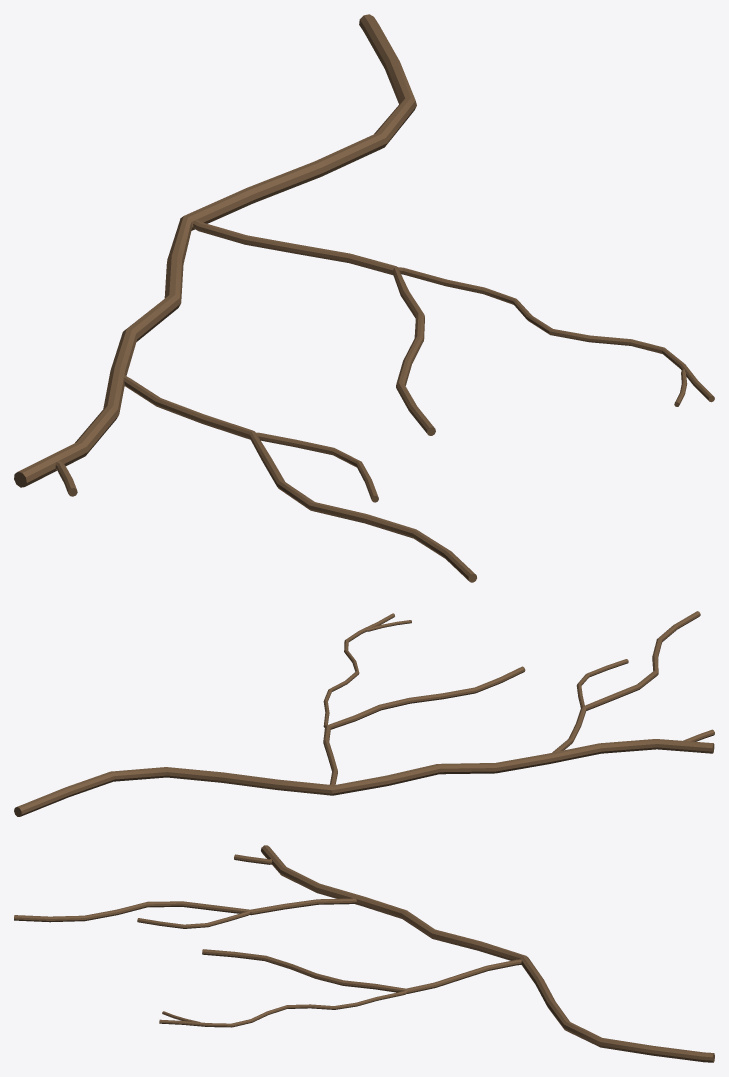
3 views of the same model, one above another, from view 1: azimuth 30°, elevation 25°; view 2: azimuth 150°, elevation 25°; view 3: azimuth 270°, elevation 25° (orthographic). The views are drawn at different scales.
Visible parts, largest first — view 1: pasted__pasted__pasted__pasted__pasted__pasted__pCylinder5; view 2: pasted__pasted__pasted__pasted__pasted__pasted__pCylinder5; view 3: pasted__pasted__pasted__pasted__pasted__pasted__pCylinder5.
Part boxes in pixels (bbox=[...]): pasted__pasted__pasted__pasted__pasted__pasted__pCylinder5: bbox=[14, 14, 714, 582]; pasted__pasted__pasted__pasted__pasted__pasted__pCylinder5: bbox=[14, 611, 714, 816]; pasted__pasted__pasted__pasted__pasted__pasted__pCylinder5: bbox=[14, 845, 714, 1062].
Bounding box in the file's own units: 20.42 × 0.4179 × 28.62.
